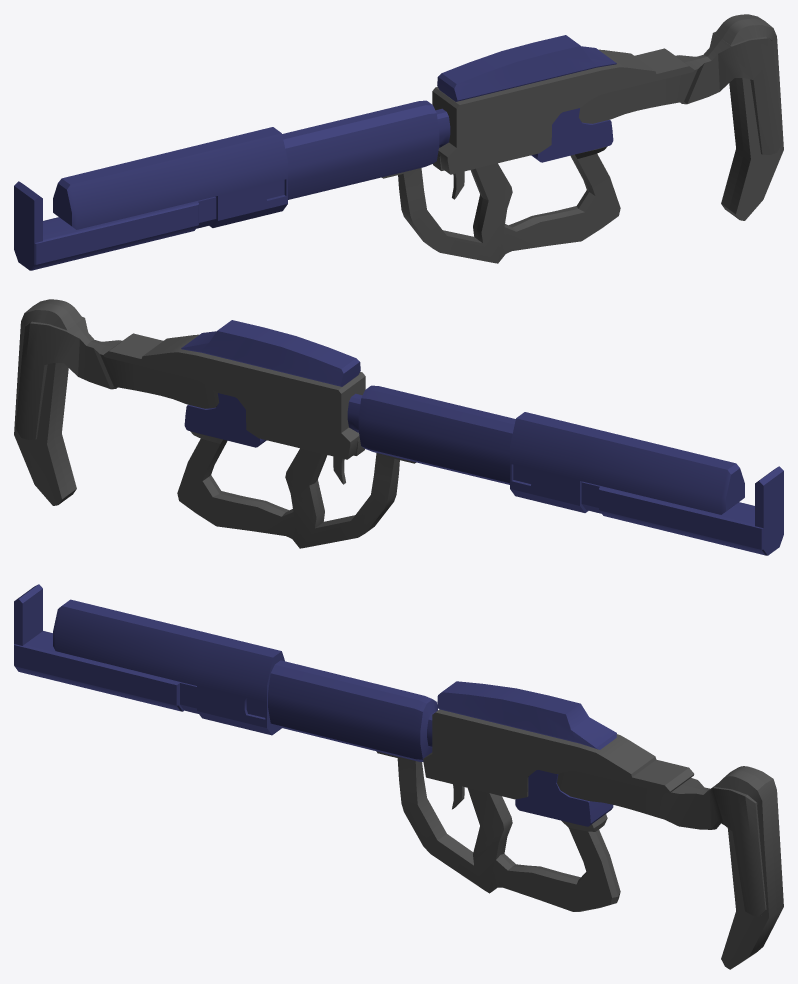
Rendered from gravityGun_07.fbx.
3 renders of one model, top to bottom at view 1: azimuth 30°, elevation 25°; view 2: azimuth 150°, elevation 25°; view 3: azimuth 330°, elevation 25°, orthographic.
Visible parts, largest first — view 1: gravityGun备份; view 2: gravityGun备份; view 3: gravityGun备份.
Part boxes in pixels (x1,y1,x2,y2): gravityGun备份: [14, 14, 783, 270]; gravityGun备份: [14, 299, 783, 555]; gravityGun备份: [14, 584, 783, 969].
Bounding box in the file's own units: 39.51 × 10.83 × 2.21.
